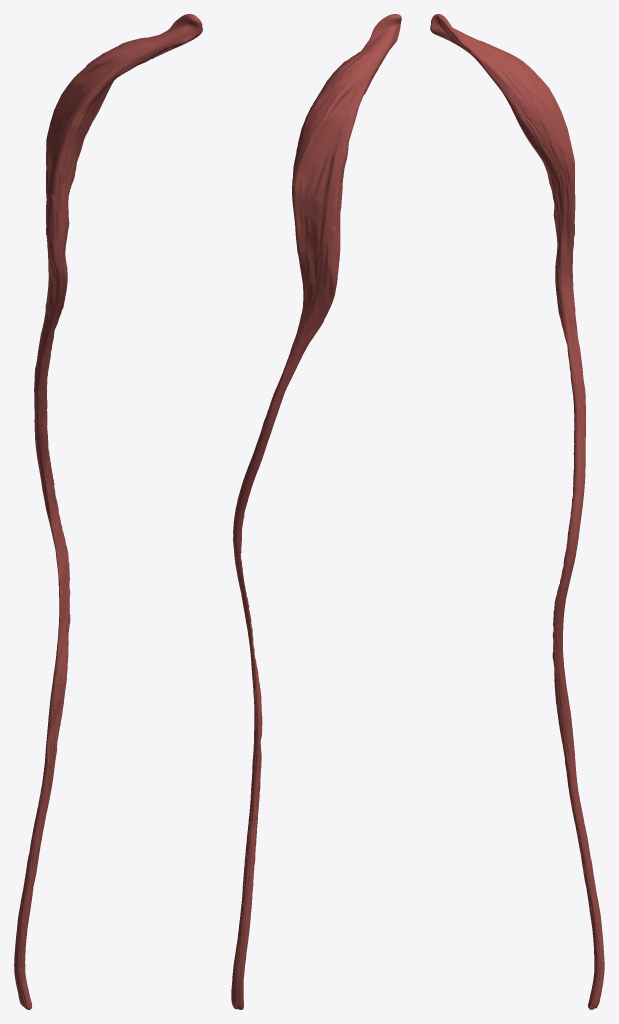
File: FMA22560.glb
The picture shows the model from 3 angles, left to right: view 1: azimuth 90°, elevation 25°; view 2: azimuth 150°, elevation 25°; view 3: azimuth 270°, elevation 25°; orthographic projection. The views are drawn at different scales.
Parts seen in each view (by area): view 1: FMA22560; view 2: FMA22560; view 3: FMA22560.
Boxes of the visible parts, <box> form: FMA22560: <box>14,14,202,1009</box>; FMA22560: <box>231,14,401,1009</box>; FMA22560: <box>430,14,604,1009</box>.
Bounding box in the file's own units: 0.0532 × 0.467 × 0.0771.
